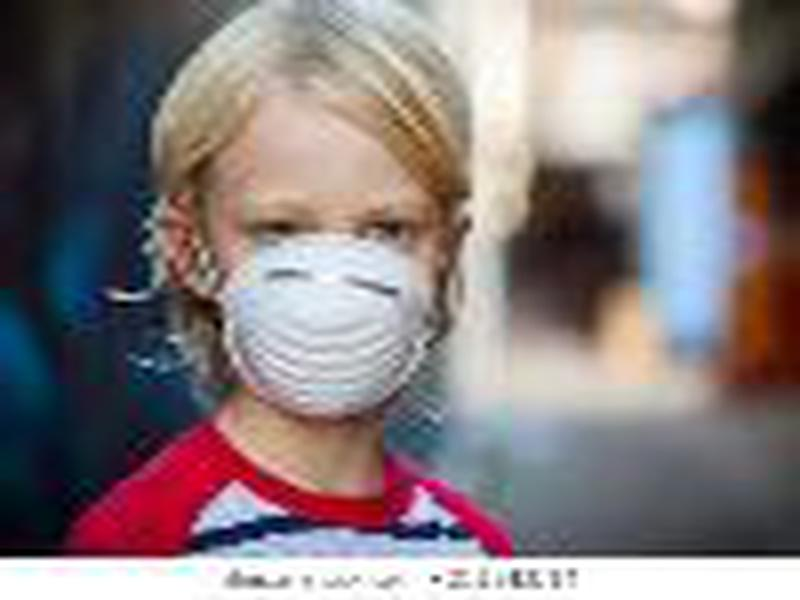with_mask: (189, 74, 453, 428)
